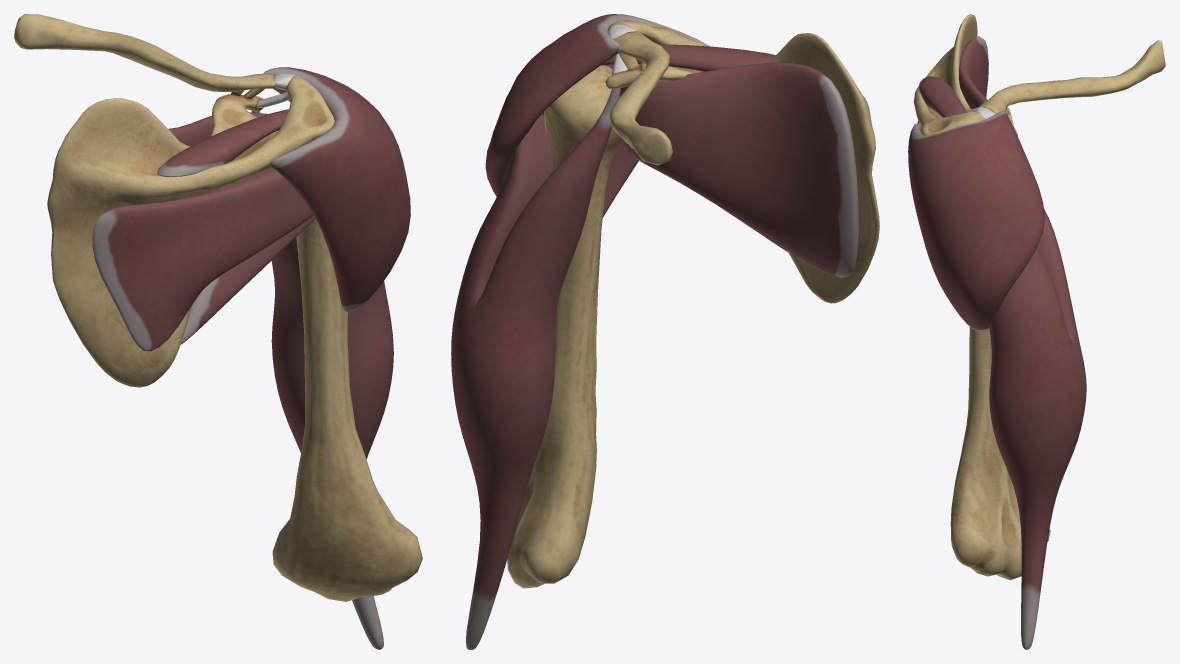
3 renders of one model, left to right at view 1: azimuth 30°, elevation 25°; view 2: azimuth 150°, elevation 25°; view 3: azimuth 270°, elevation 25°, orthographic. The views are drawn at different scales.
Parts seen in each view (by area): view 1: pCube10, polySurface1; view 2: polySurface1, pCube10; view 3: polySurface1, pCube10.
Boxes of the visible parts, box(x1,y1,x2,y2) form: pCube10: box(14, 14, 422, 601); polySurface1: box(92, 67, 410, 649); polySurface1: box(451, 14, 858, 649); pCube10: box(507, 19, 879, 588); polySurface1: box(908, 36, 1086, 649); pCube10: box(913, 14, 1165, 580).
Bounding box in the file's own units: 0.3135 × 0.523 × 0.2373.
2 materials, 2 textured.
